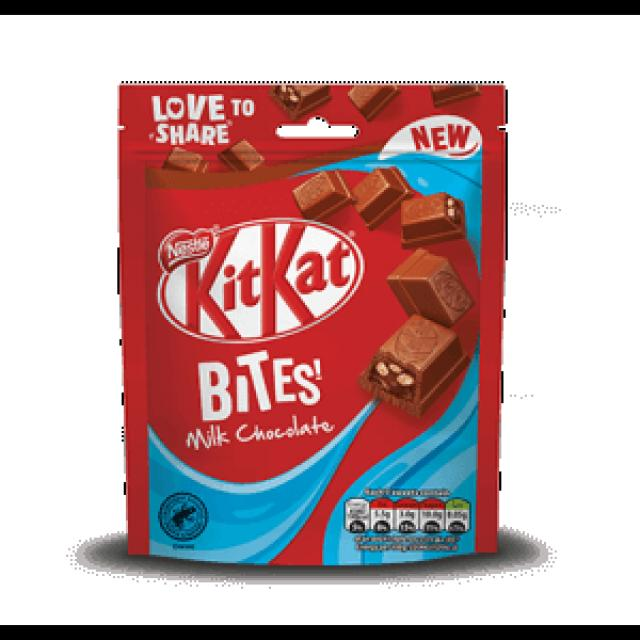kitkat: (120, 79, 497, 566)
